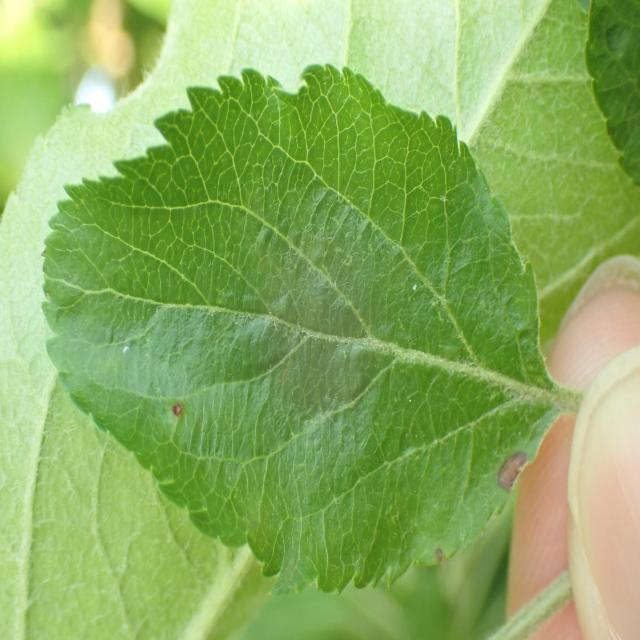frog-eye-leaf-spot: (39, 63, 576, 600)
